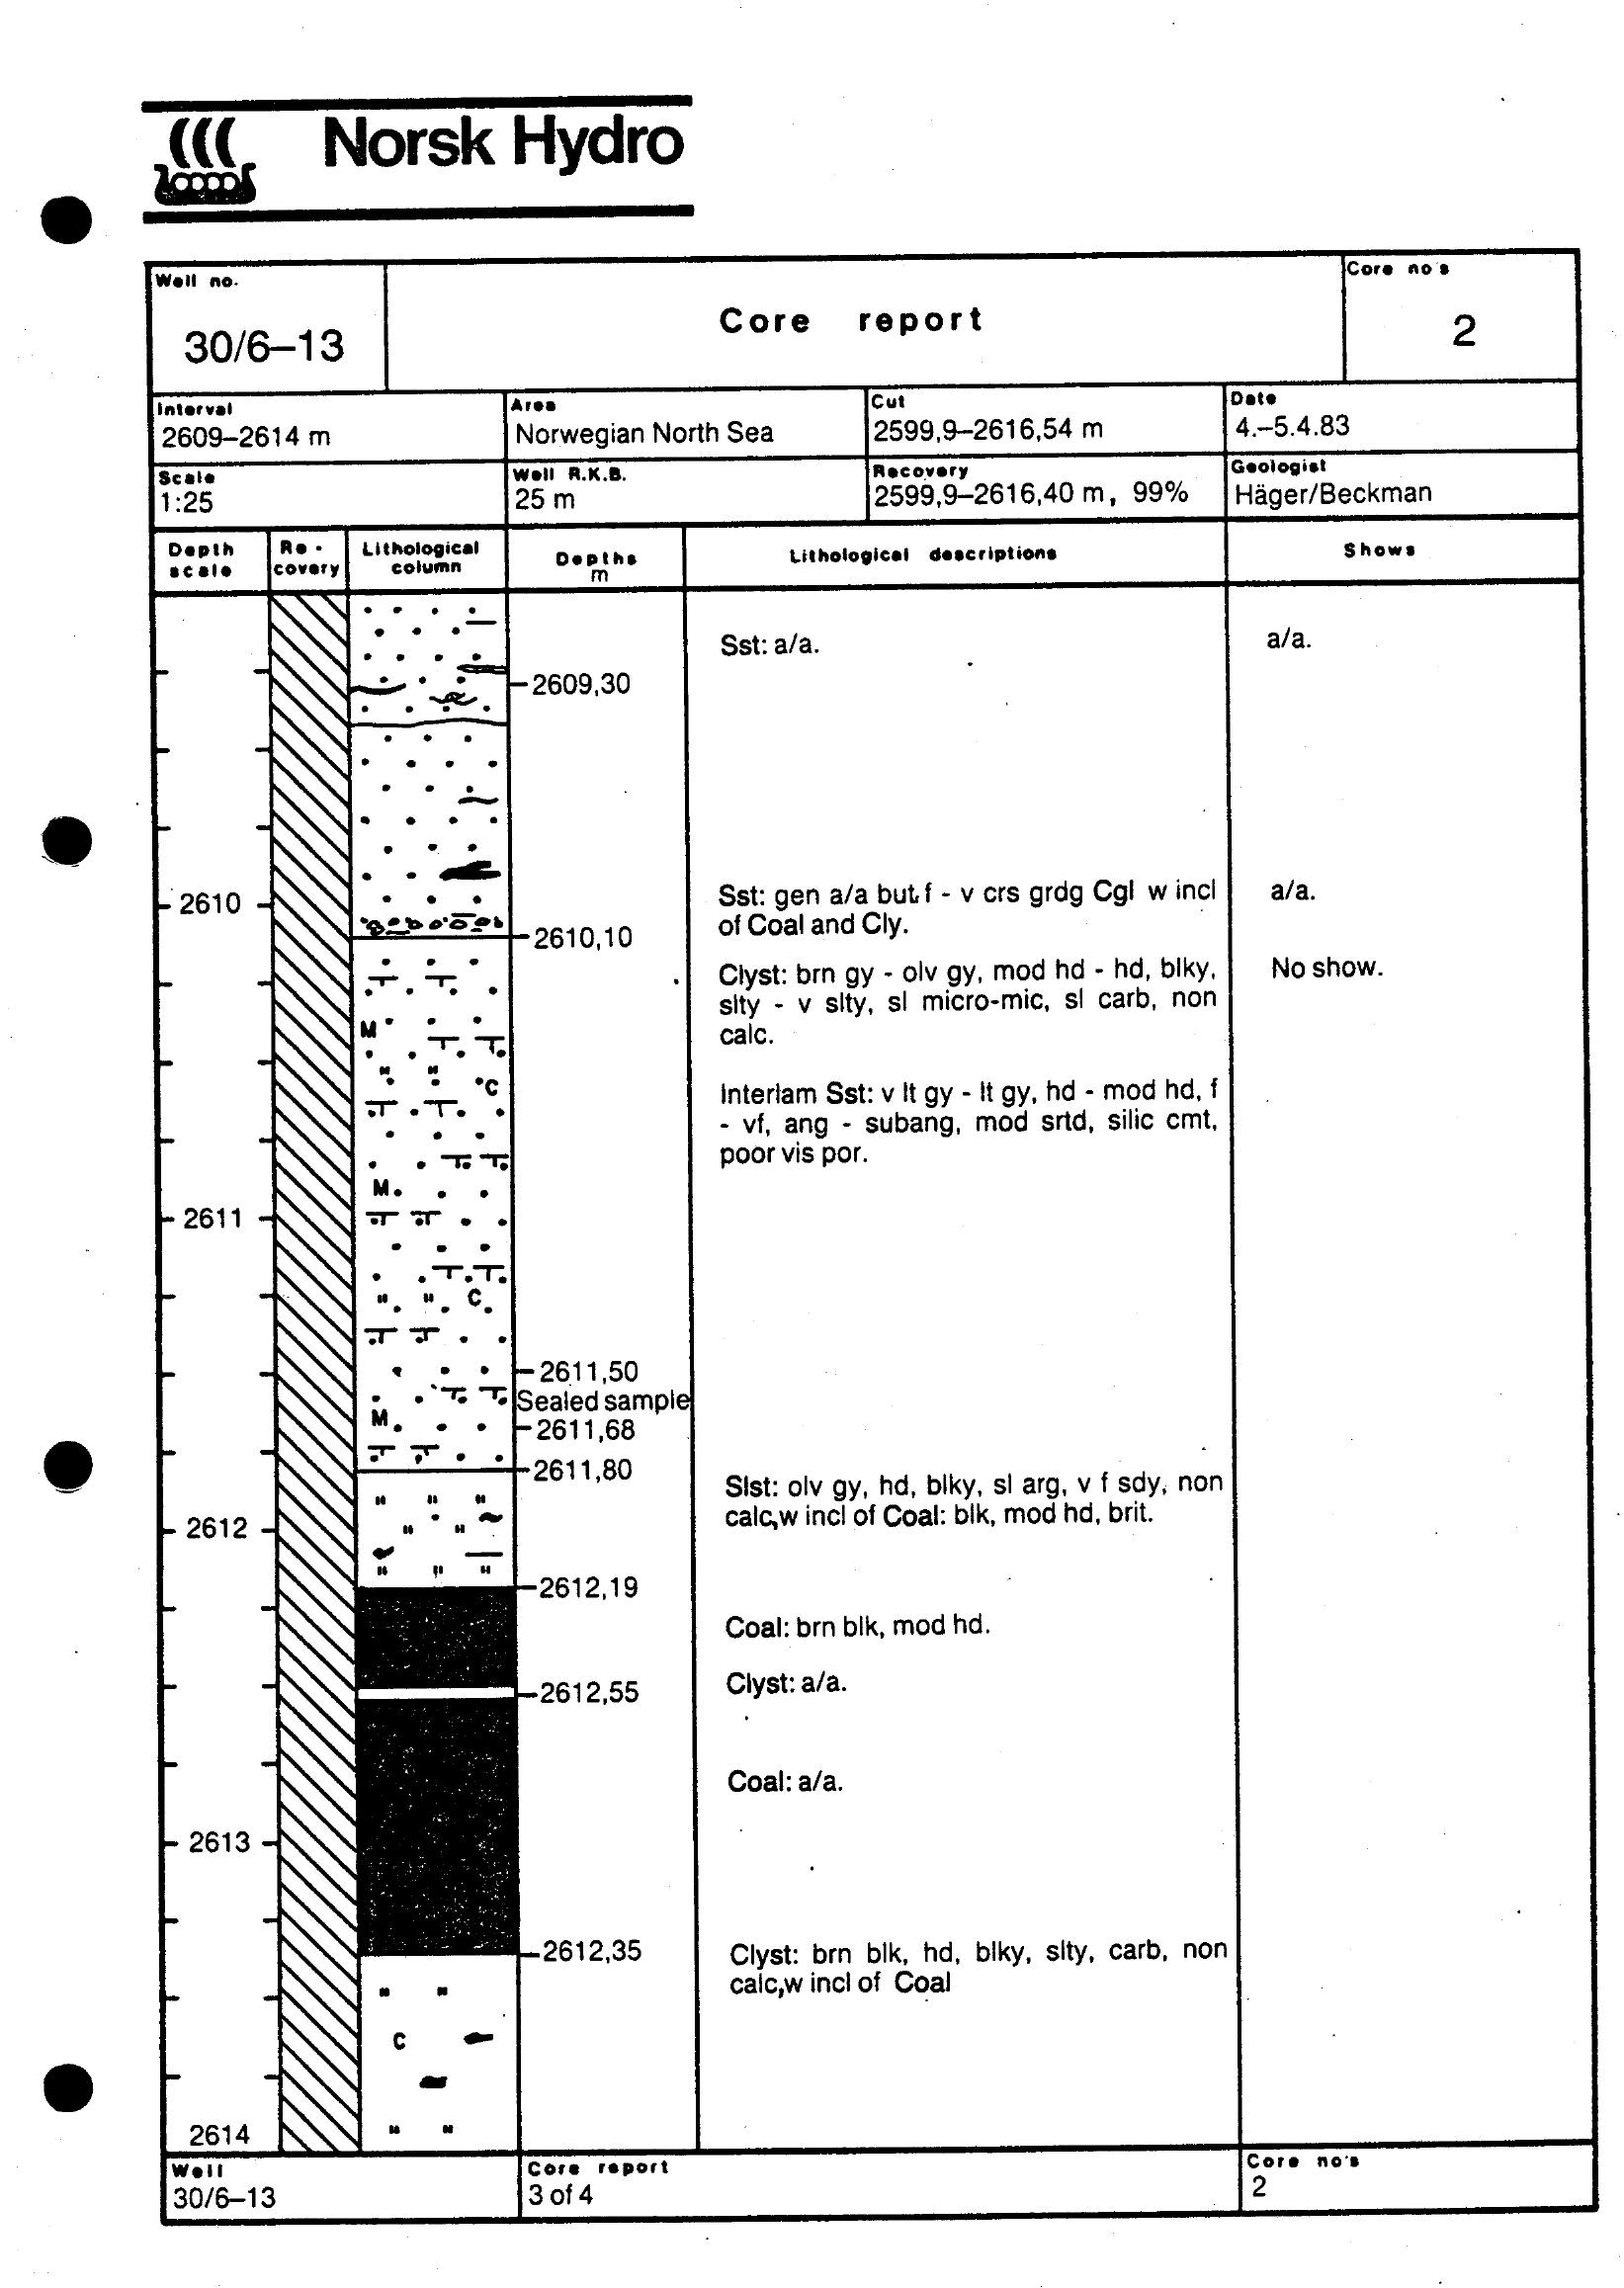graph: (114, 243, 1617, 2241)
undefined: (98, 81, 708, 227)
